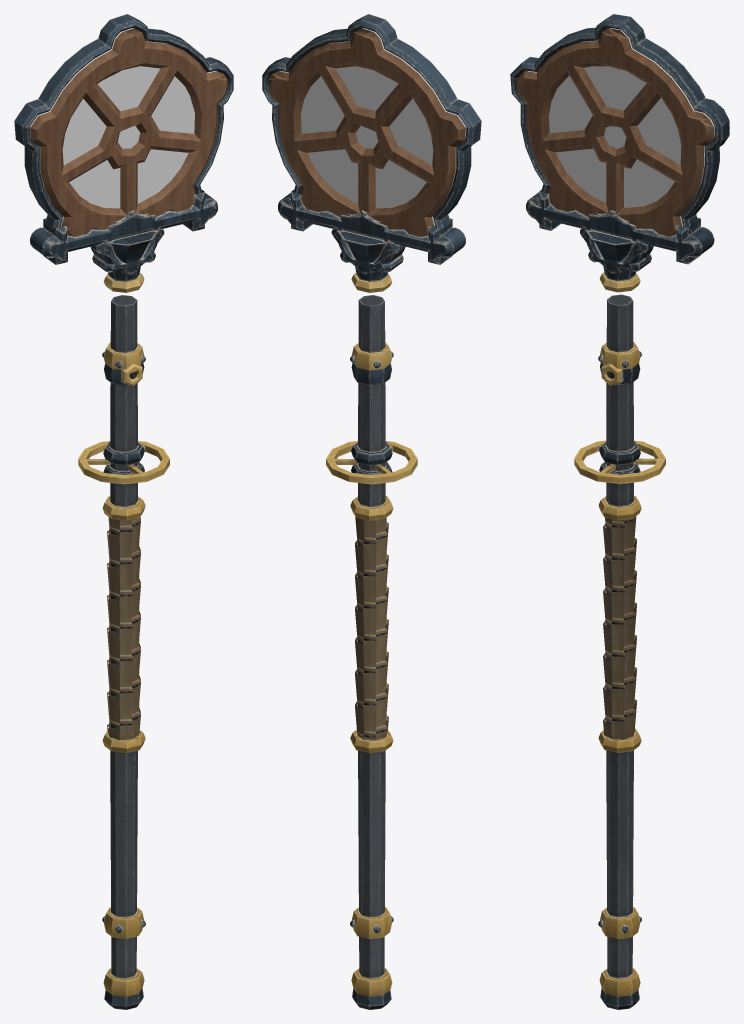
Rendered from Boilerwake Staff.fbx.
The picture shows the model from 3 angles, left to right: view 1: azimuth 30°, elevation 25°; view 2: azimuth 150°, elevation 25°; view 3: azimuth 330°, elevation 25°; orthographic projection.
Visible parts, largest first — view 1: Boilerwake Staff_Body, Boilerwake Staff_Glow; view 2: Boilerwake Staff_Body, Boilerwake Staff_Glow; view 3: Boilerwake Staff_Body, Boilerwake Staff_Glow.
Part boxes in pixels (left/top/right/bottom): Boilerwake Staff_Body: left=14, top=14, right=233, bottom=1009; Boilerwake Staff_Glow: left=29, top=28, right=216, bottom=226; Boilerwake Staff_Body: left=262, top=14, right=481, bottom=1009; Boilerwake Staff_Glow: left=279, top=28, right=466, bottom=225; Boilerwake Staff_Body: left=510, top=14, right=729, bottom=1009; Boilerwake Staff_Glow: left=528, top=28, right=714, bottom=226.
Size of the model in its own units: 1.37 by 6.11 by 0.5148.
